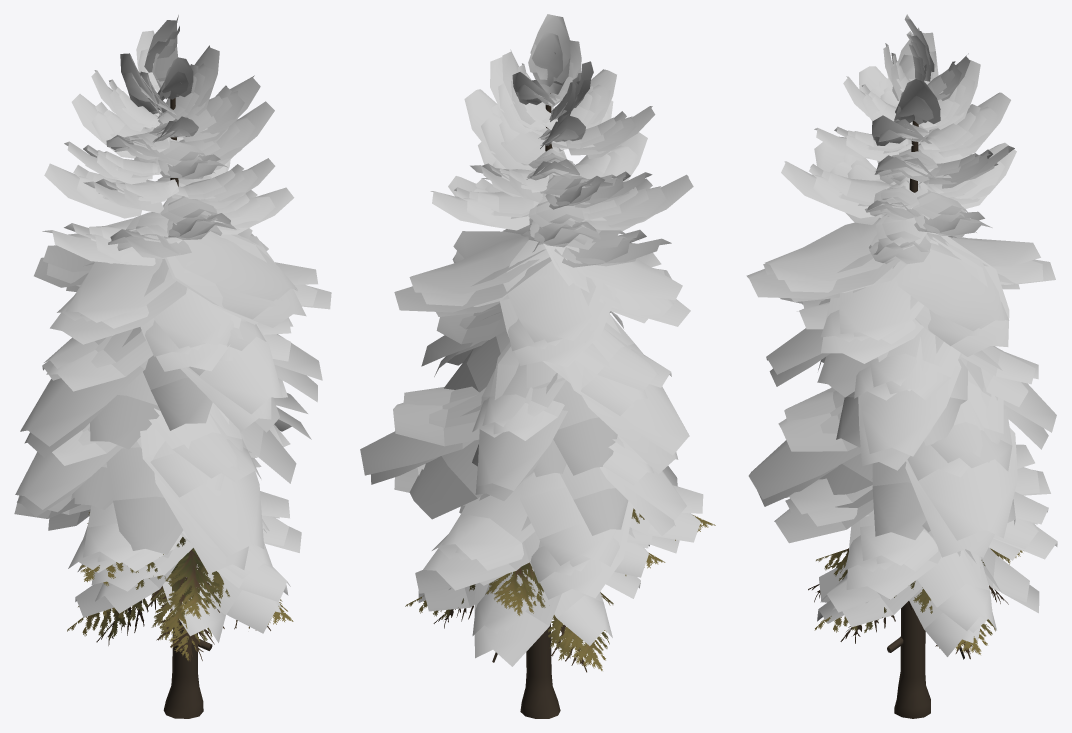
File: Fir_Gr+Ân.M.B.Z1.fbx
3 renders of one model, left to right at view 1: azimuth 30°, elevation 25°; view 2: azimuth 150°, elevation 25°; view 3: azimuth 270°, elevation 25°, orthographic.
Parts seen in each view (by area): view 1: Fir_Grön_M_B_Z1; view 2: Fir_Grön_M_B_Z1; view 3: Fir_Grön_M_B_Z1.
Boxes of the visible parts, x1,y1,x2,y2 form: Fir_Grön_M_B_Z1: [14, 15, 331, 718]; Fir_Grön_M_B_Z1: [360, 14, 715, 718]; Fir_Grön_M_B_Z1: [746, 14, 1057, 718].
Size of the model in its own units: 474 by 1054 by 432.
